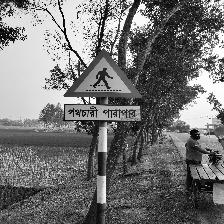Pedestrian-crossing: (62, 50, 143, 122)
